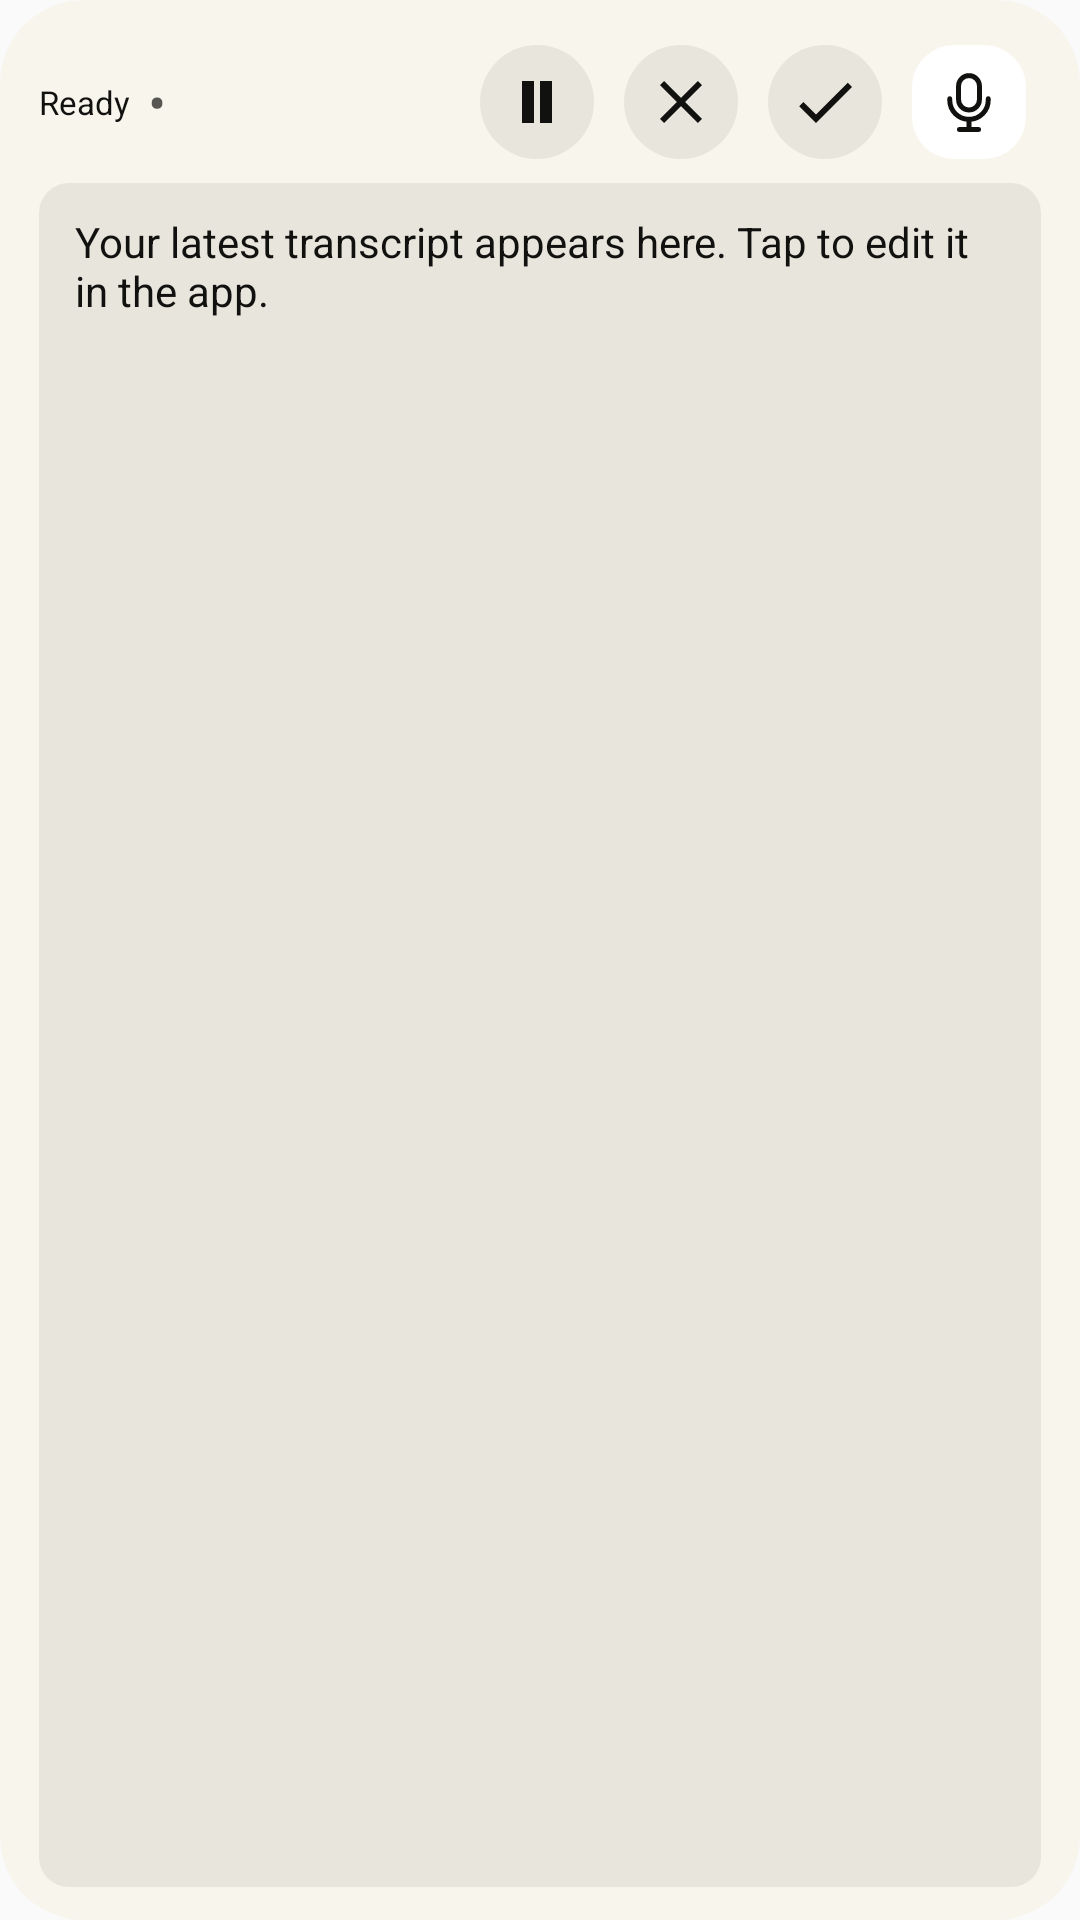

Point at icon controls on the screen. Image size 1080 x 1920, points as (x,y).
Discard: (681,102)
Finish: (825,102)
Pause or resume: (537,102)
Record: (969,102)
